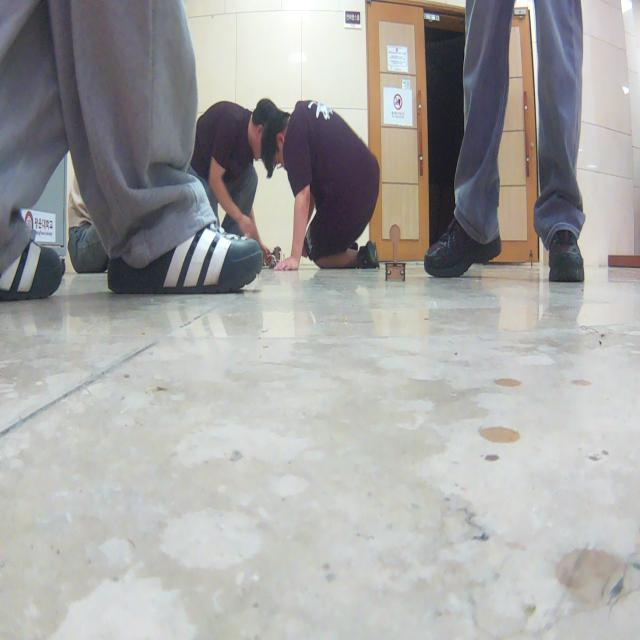target: (384, 224, 406, 281)
